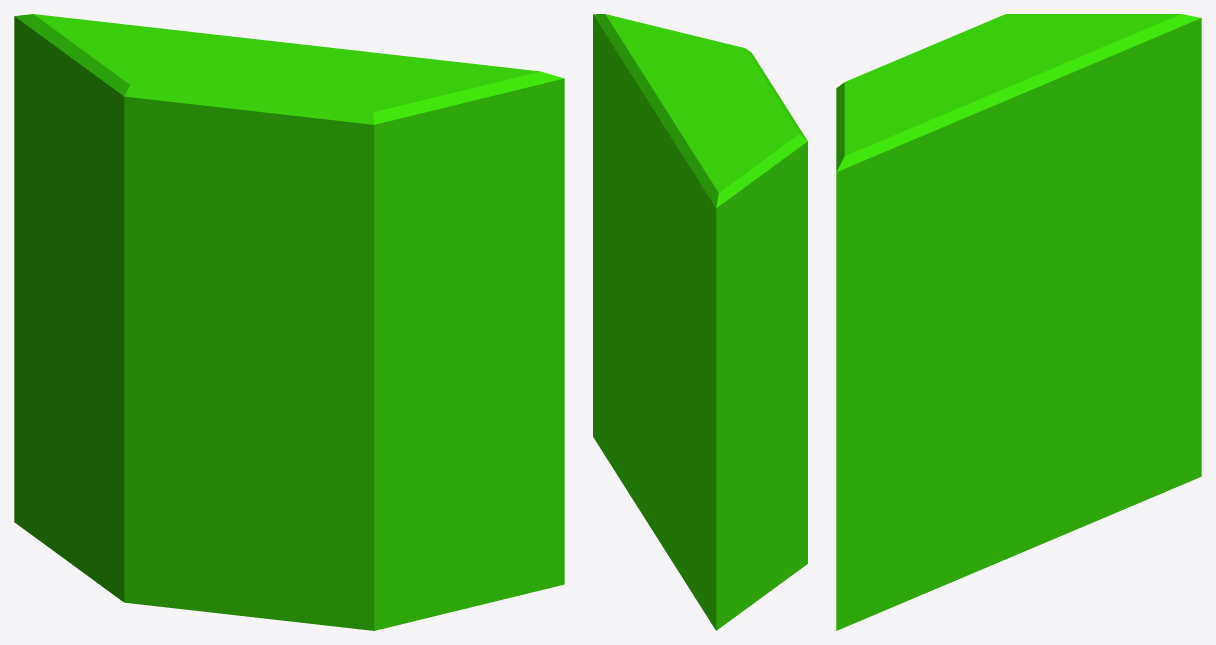
File: diagonal_2x3.fbx
The picture shows the model from 3 angles, left to right: view 1: azimuth 30°, elevation 25°; view 2: azimuth 150°, elevation 25°; view 3: azimuth 270°, elevation 25°; orthographic projection. The views are drawn at different scales.
Parts seen in each view (by area): view 1: diagonal_2x3; view 2: diagonal_2x3; view 3: diagonal_2x3.
Part boxes in pixels (<box>): diagonal_2x3: <box>14,14,564,630</box>; diagonal_2x3: <box>593,14,807,630</box>; diagonal_2x3: <box>836,14,1201,630</box>.
Size of the model in its own units: 220 by 310 by 220.
